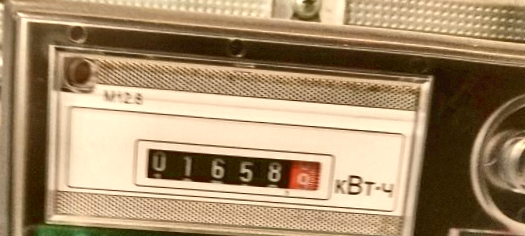0: (149, 149, 168, 171)
1: (179, 152, 195, 177)
5: (237, 158, 254, 183)
6: (208, 155, 228, 180)
8: (265, 159, 283, 182)
9: (294, 169, 311, 191)
screen: (129, 134, 338, 205)
